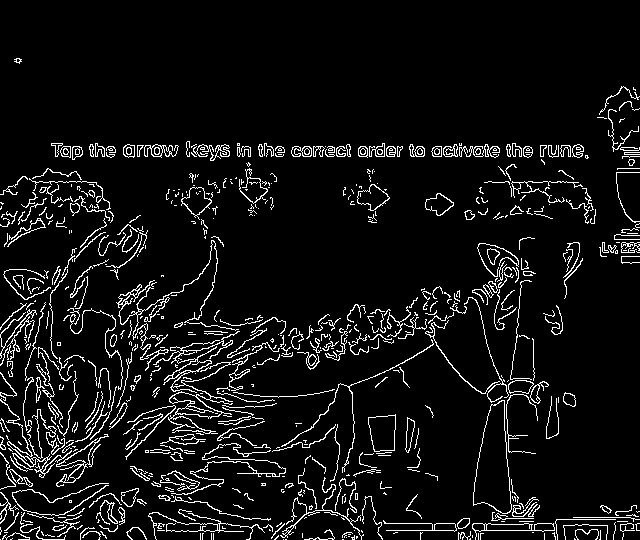down: (176, 179, 219, 223), (237, 170, 272, 211)
right: (353, 180, 394, 219), (422, 186, 459, 220)
